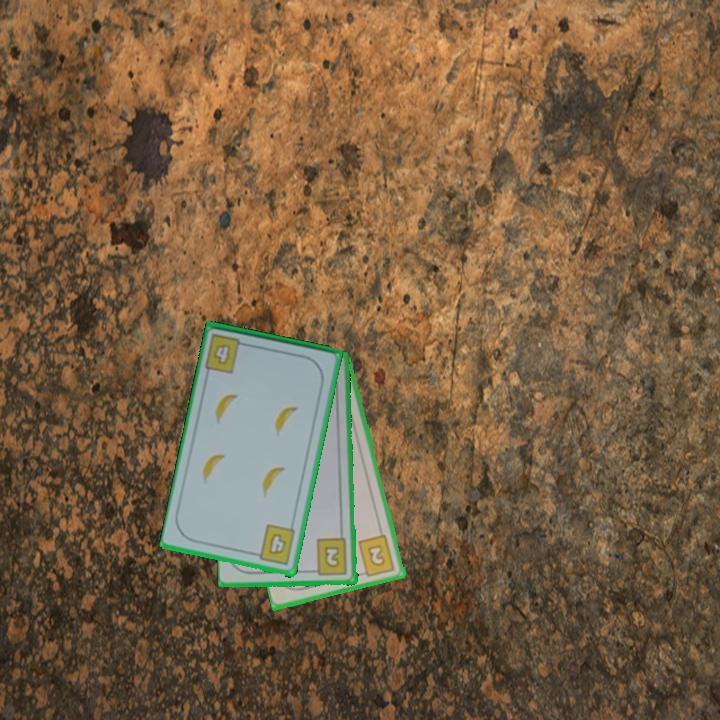2b: (355, 532, 398, 580), (308, 536, 350, 578)
4b: (202, 330, 252, 376), (250, 522, 298, 569)
